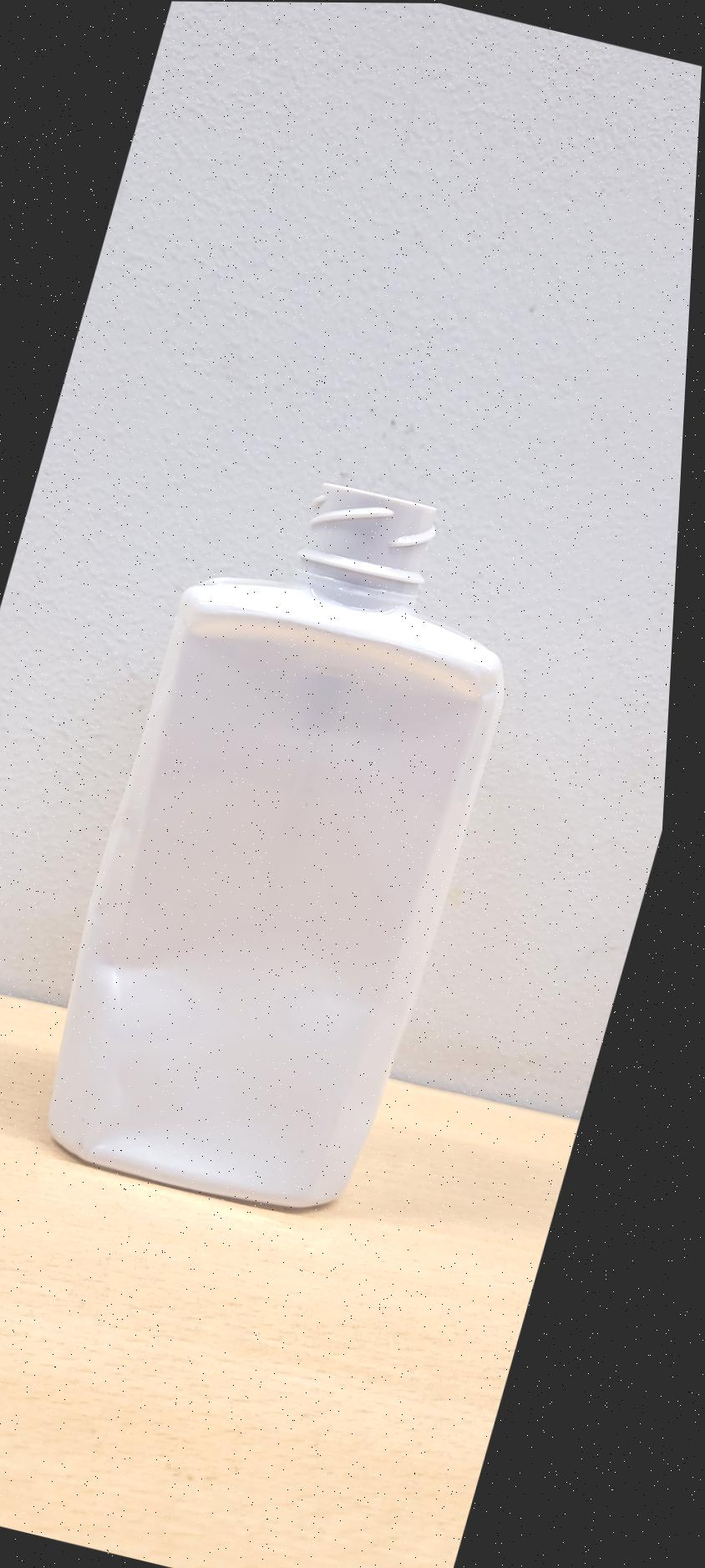bottle: (48, 484, 503, 1207)
